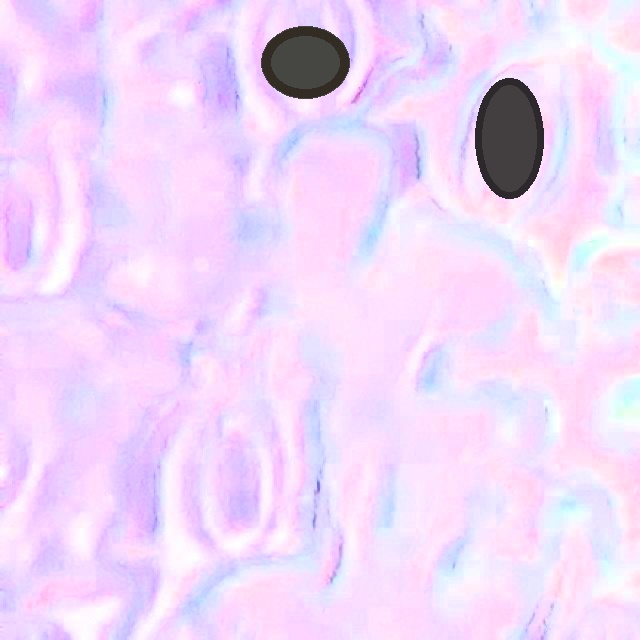open: (475, 79, 543, 198), (261, 26, 349, 98)
